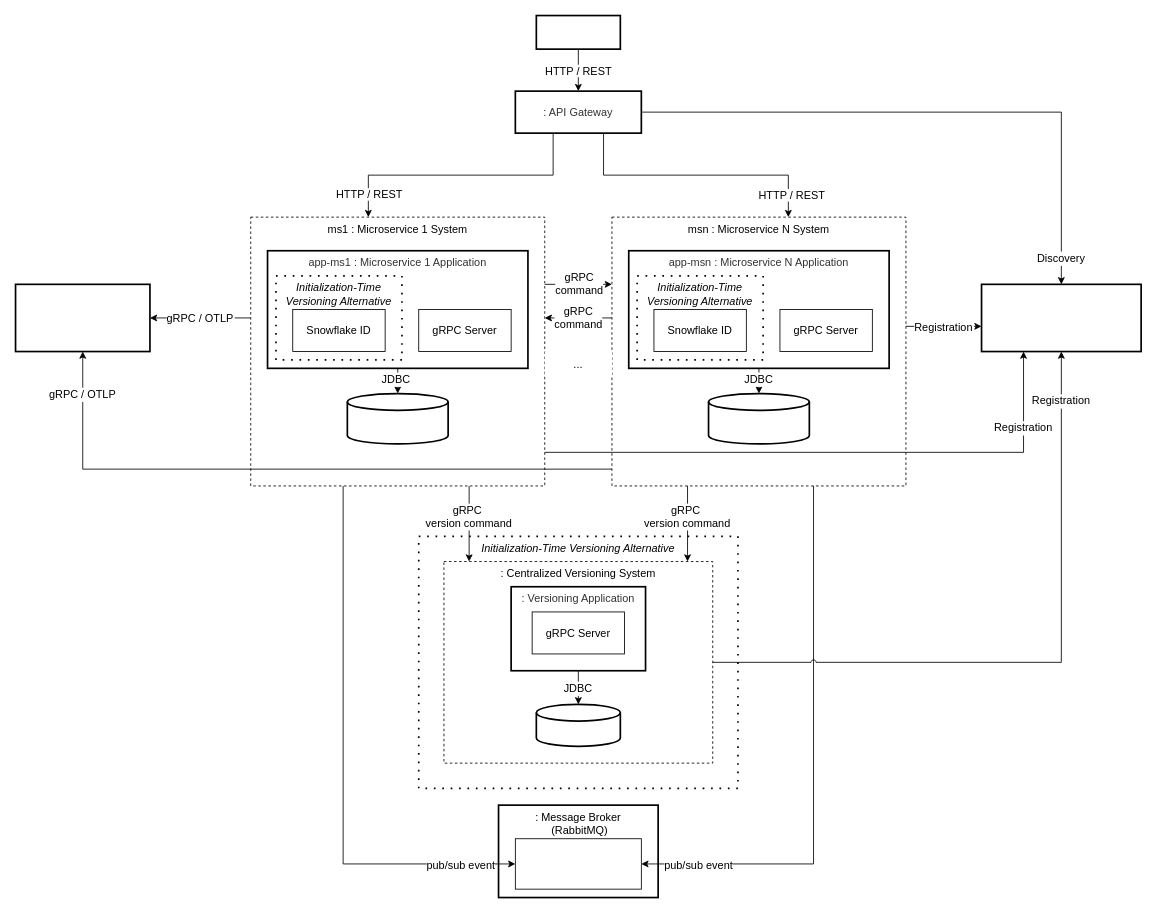
The diagram is 1156 pixels wide and 912 high, and some of its shapes have lost their labels. The shapes that lost their labels are listed below. From the top down, each one's centre as x and y in pixels, then its label:
the point at 578,32: : Web Client
the point at 82,317: : Tracing Server (Jaeger)
the point at 1061,317: : Service Discovery (Eureka)
the point at 397,418: db-ms1 : Microservice 1 DB
the point at 758,418: db-msn : Microservice N DB
the point at 578,725: : Version DB
the point at 577,863: : Event Channel
